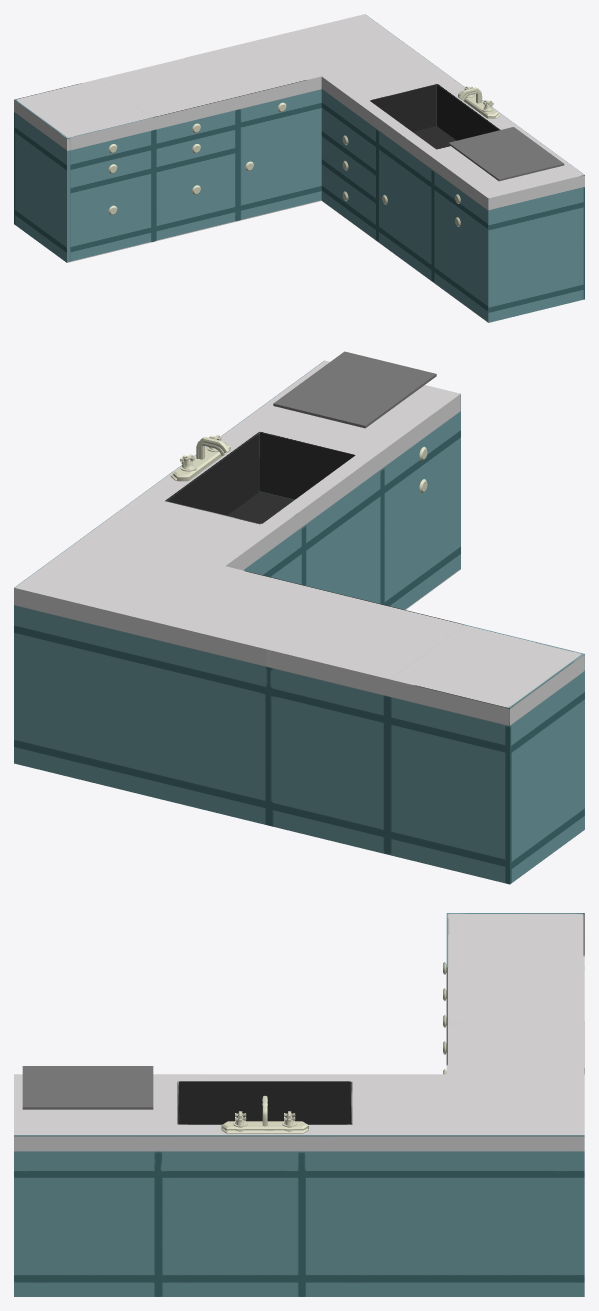
The model's file is Kitchin.fbx.
3 views of the same model, one above another, from view 1: azimuth 30°, elevation 25°; view 2: azimuth 150°, elevation 25°; view 3: azimuth 270°, elevation 25° (orthographic). The views are drawn at different scales.
Visible parts, largest first — view 1: TGS111:polySurface95, TGS111:polySurface48; view 2: TGS111:polySurface95, TGS111:polySurface48; view 3: TGS111:polySurface95, TGS111:polySurface48.
Part boxes in pixels (<box>): TGS111:polySurface95: <box>14,14,584,322</box>; TGS111:polySurface48: <box>448,127,564,181</box>; TGS111:polySurface95: <box>14,360,584,884</box>; TGS111:polySurface48: <box>273,351,436,428</box>; TGS111:polySurface95: <box>14,913,584,1296</box>; TGS111:polySurface48: <box>22,1066,153,1109</box>.
Bounding box in the file's own units: 1146 × 448 × 1243.
